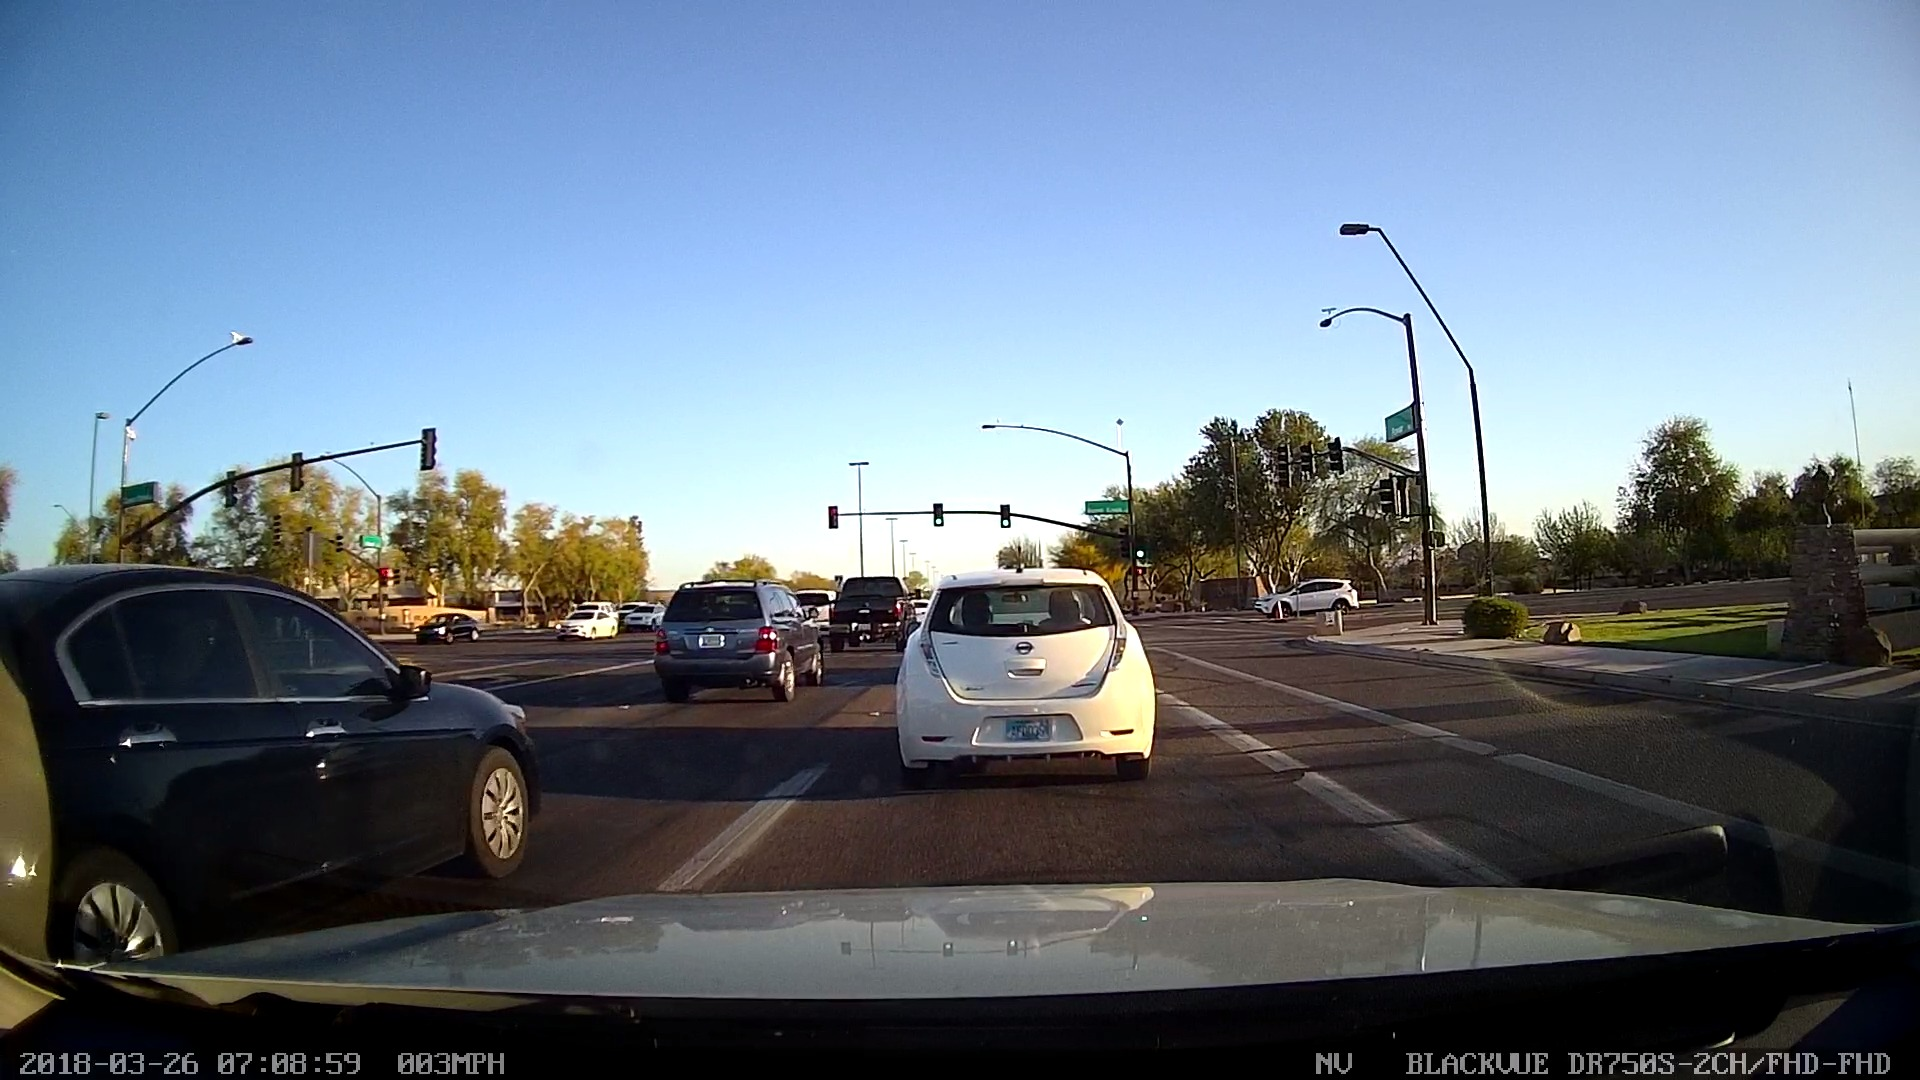vehicle: (0, 545, 556, 963), (880, 559, 1168, 796), (626, 535, 844, 715), (1247, 547, 1362, 640), (818, 553, 919, 654), (981, 705, 1072, 753), (683, 621, 762, 667)
